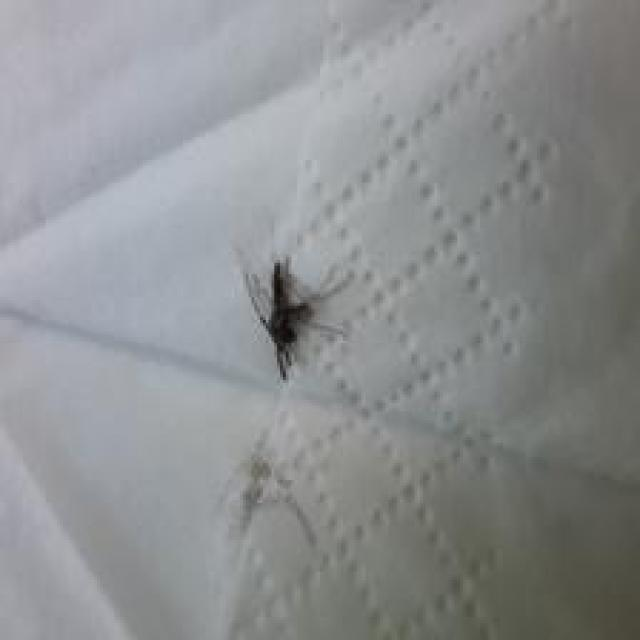Aedes albopictus: (240, 253, 354, 381)
